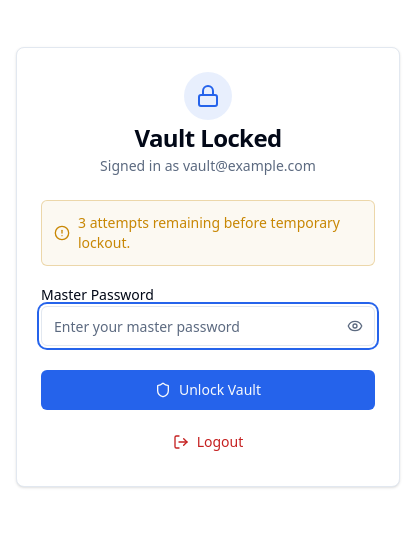
Scenario: unlock rate limiting — client-side lockout (real component) › does not lock out below the threshold (shows attempts-remaining instead)
Type "wrong-password" into the password field labelled "Master Password" at (208, 326), box [41,306,375,346]
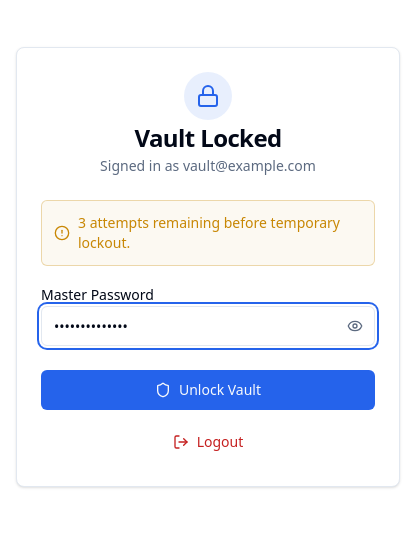
Click the button "Unlock Vault" at (208, 390), box [41,370,375,410]
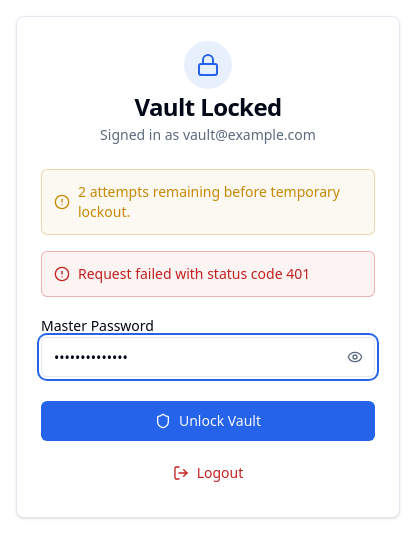
Check: the button "Unlock Vault" is enabled, box [41,401,375,441]
Check: the text "2 attempts remaining before temporary lockout." is shown, box [78,182,362,222]
